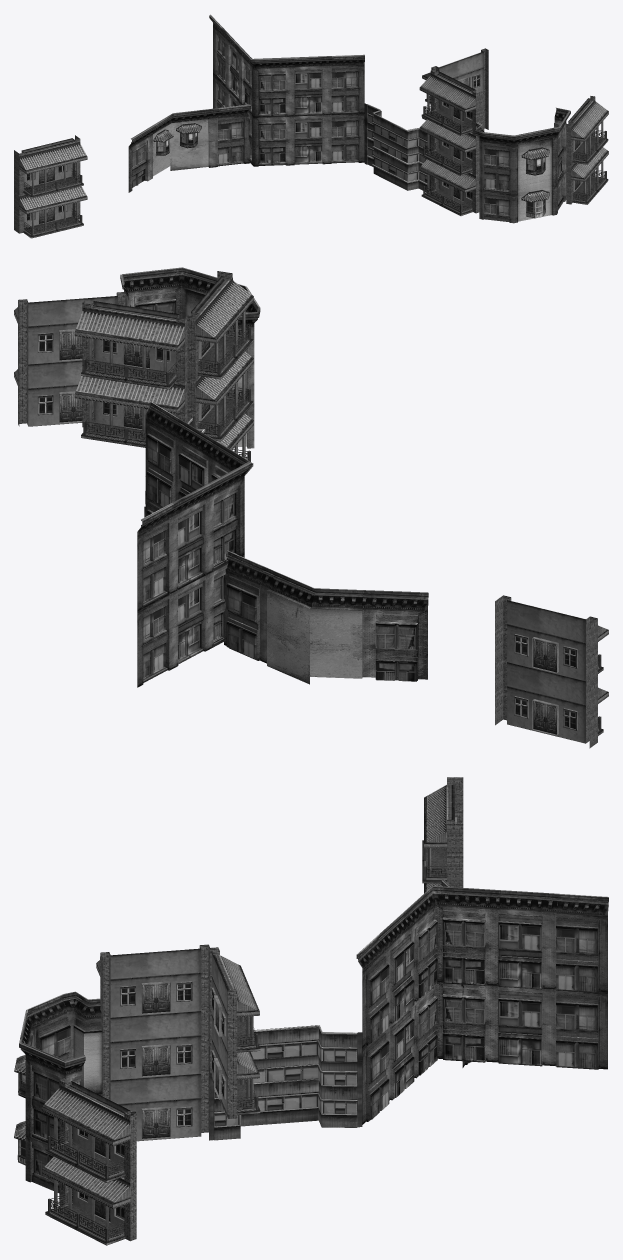
File: chinatown_block_4.fbx
The picture shows the model from 3 angles, top to bottom: view 1: azimuth 30°, elevation 25°; view 2: azimuth 150°, elevation 25°; view 3: azimuth 270°, elevation 25°; orthographic projection. The views are drawn at different scales.
Visible parts, largest first — view 1: chinatown_building_6, chinatown_building_1, chinatown_building_2, chinatown_building_7, chinatown_building_4, chinatown_building_3, chinatown_building_5; view 2: chinatown_building_1, chinatown_building_6, chinatown_building_7, chinatown_building_4, chinatown_building_5, chinatown_building_2; view 3: chinatown_building_6, chinatown_building_1, chinatown_building_5, chinatown_building_3, chinatown_building_2, chinatown_building_4.
Part boxes in pixels (x1,y1,x2,y2): chinatown_building_6: (209, 14, 364, 166); chinatown_building_1: (419, 48, 488, 215); chinatown_building_2: (474, 107, 570, 223); chinatown_building_7: (128, 104, 250, 192); chinatown_building_4: (14, 135, 87, 238); chinatown_building_3: (364, 103, 430, 192); chinatown_building_5: (566, 96, 608, 204); chinatown_building_1: (74, 271, 253, 475); chinatown_building_6: (137, 400, 251, 687); chinatown_building_7: (224, 550, 428, 684); chinatown_building_4: (495, 595, 608, 748); chinatown_building_5: (14, 292, 126, 426); chinatown_building_2: (120, 267, 260, 448); chinatown_building_6: (356, 886, 608, 1124); chinatown_building_1: (96, 944, 260, 1141); chinatown_building_5: (42, 1078, 136, 1245); chinatown_building_3: (209, 1025, 362, 1140); chinatown_building_2: (14, 991, 102, 1192); chinatown_building_4: (422, 777, 463, 893).
Bounding box in the file's own units: 6608 × 1791 × 4504.
